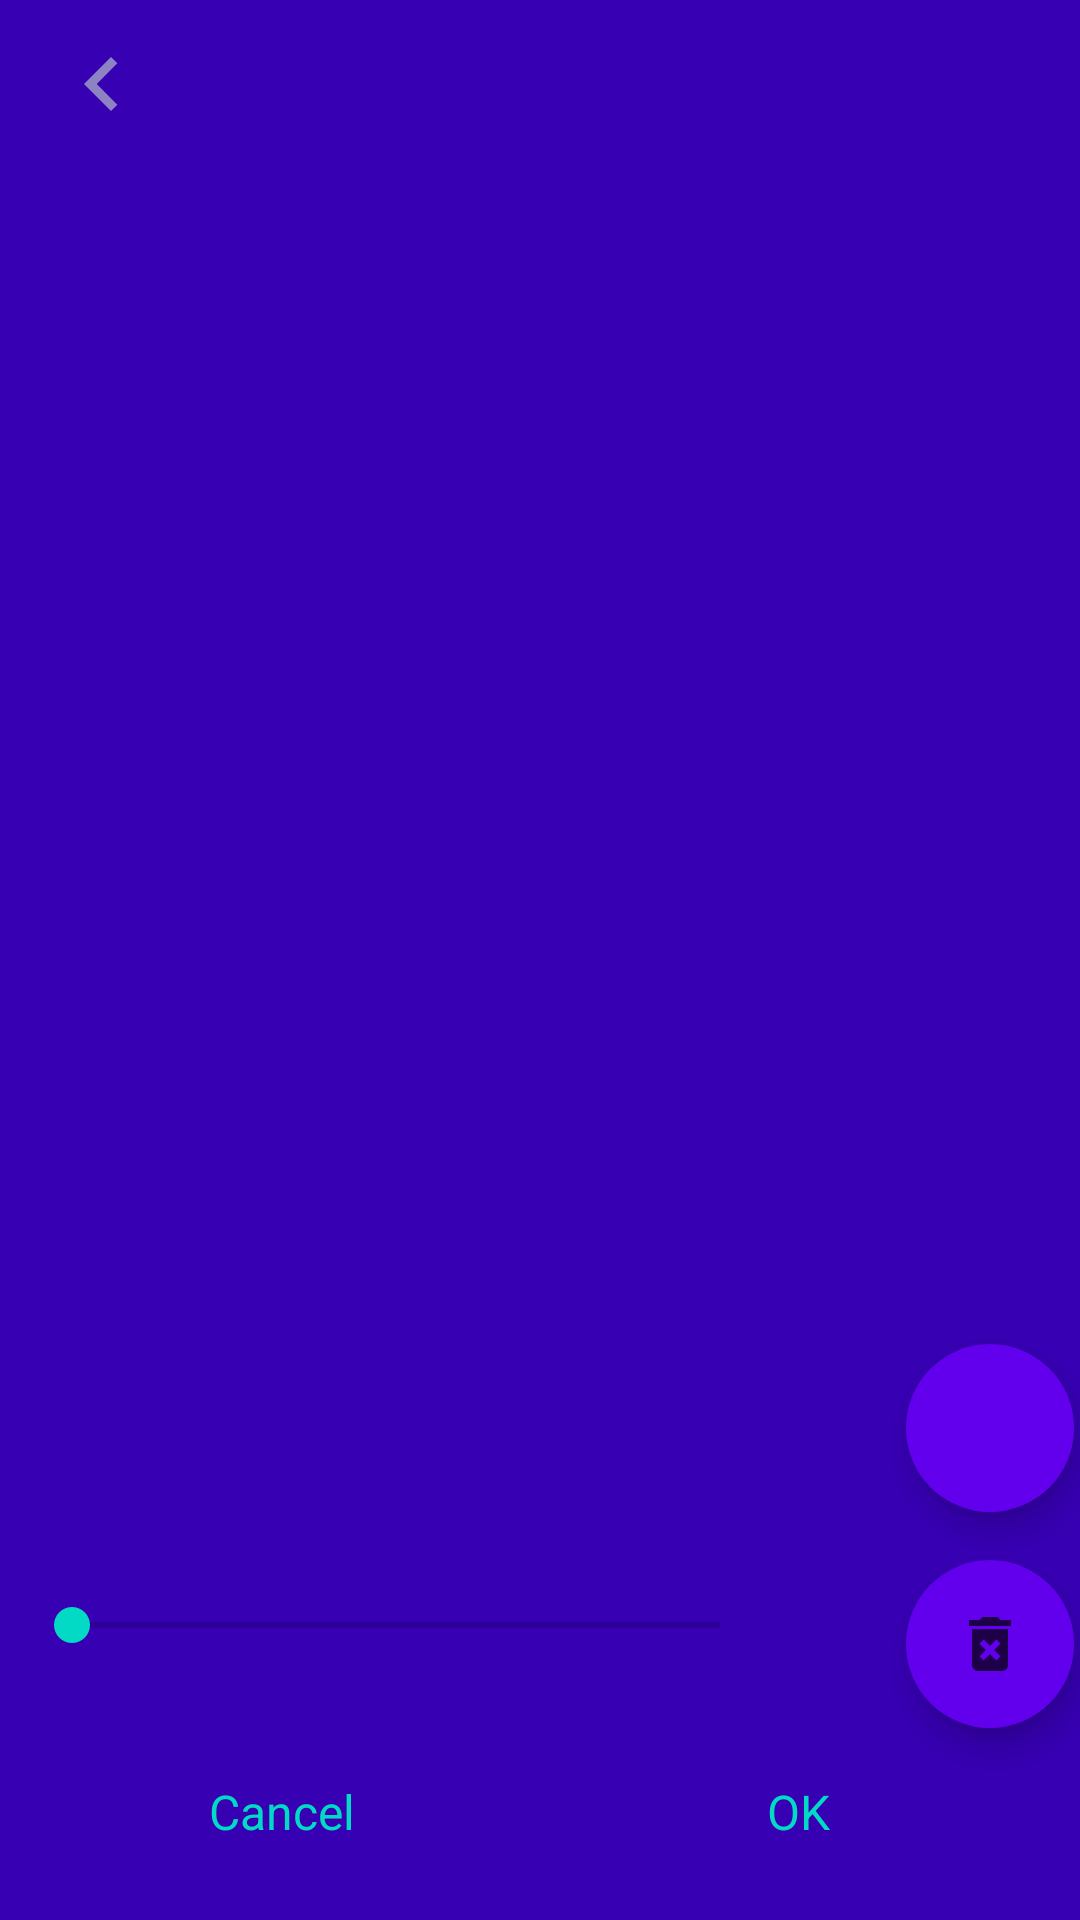

Icon click points for this 1080px×1920px phone screenshot, format [x,y]:
back button: [100,84]
delete the selected melody from the list: [990,1644]
